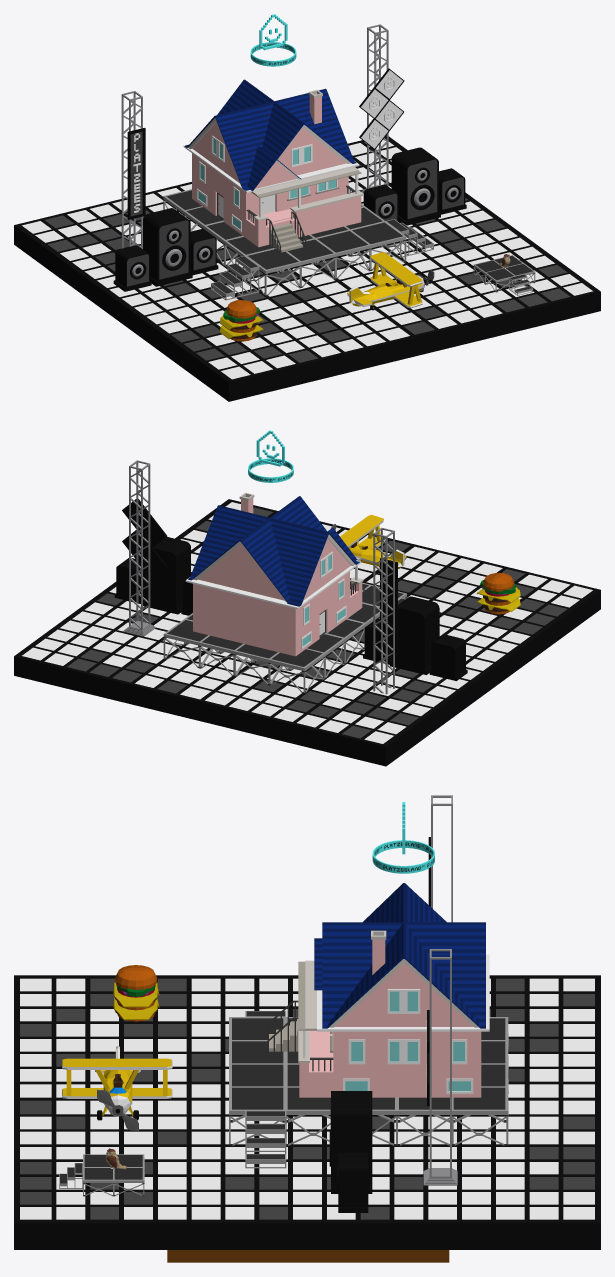
3 views of the same model, one above another, from view 1: azimuth 30°, elevation 25°; view 2: azimuth 150°, elevation 25°; view 3: azimuth 270°, elevation 25° (orthographic). The views are drawn at different scales.
Visible parts, largest first — view 1: Cube.008, Cube.313, VEHICLES_AIRPLANE, OBJRANDOM_HAMBURGER, TYPE_PREMIUM; view 2: Cube.008, Cube.313, VEHICLES_AIRPLANE, OBJRANDOM_HAMBURGER, TYPE_PREMIUM; view 3: Cube.008, Cube.313, VEHICLES_AIRPLANE, UNDERGROUND_ART_PIECE_VAN_GOGH, OBJRANDOM_HAMBURGER, TYPE_PREMIUM.
Boxes of the visible parts, x1,y1,x2,y2 form: Cube.008: (14, 24, 600, 401); Cube.313: (183, 79, 363, 253); VEHICLES_AIRPLANE: (347, 252, 434, 310); OBJRANDOM_HAMBURGER: (219, 300, 263, 341); TYPE_PREMIUM: (250, 14, 296, 66); Cube.008: (14, 460, 600, 766); Cube.313: (185, 492, 364, 656); VEHICLES_AIRPLANE: (330, 514, 406, 573); OBJRANDOM_HAMBURGER: (476, 573, 520, 614); TYPE_PREMIUM: (248, 430, 293, 482); Cube.008: (14, 795, 600, 1249); Cube.313: (266, 883, 489, 1097); VEHICLES_AIRPLANE: (62, 1046, 172, 1130); UNDERGROUND_ART_PIECE_VAN_GOGH: (167, 1250, 449, 1262); OBJRANDOM_HAMBURGER: (113, 965, 159, 1021); TYPE_PREMIUM: (372, 802, 434, 873).
Size of the model in its own units: 4000 by 2637 by 4000.
Materials: 48 (3 with a texture image).
